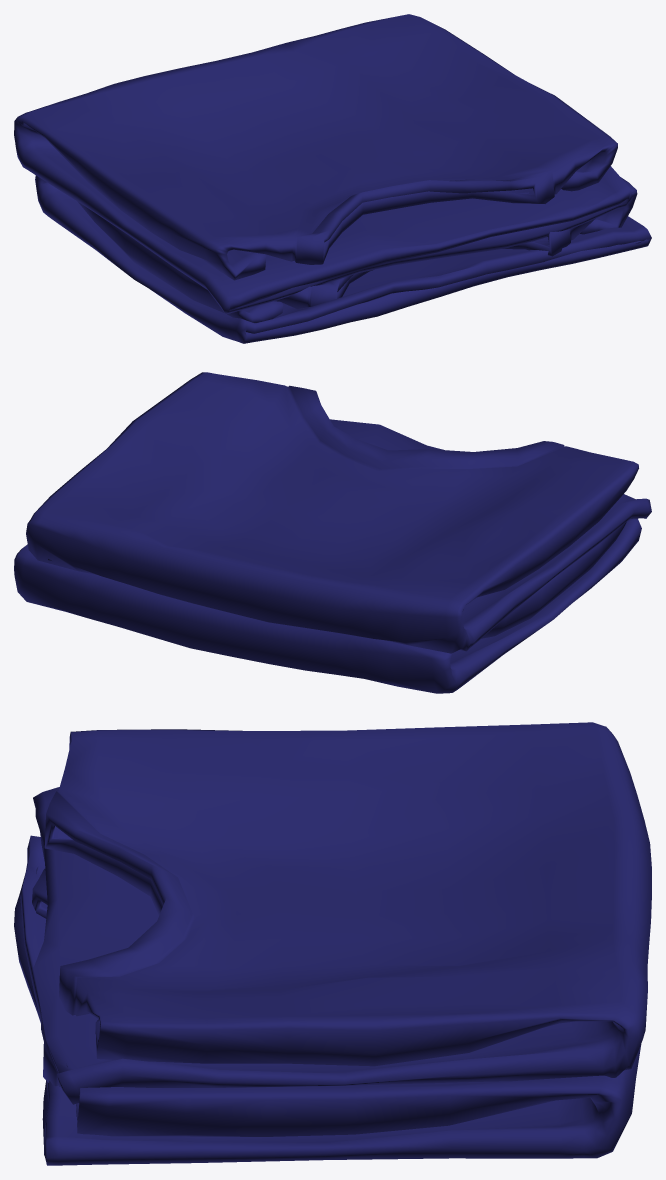
The model's file is Folded_T_Shirt11.fbx.
3 renders of one model, top to bottom at view 1: azimuth 30°, elevation 25°; view 2: azimuth 150°, elevation 25°; view 3: azimuth 270°, elevation 25°, orthographic. The views are drawn at different scales.
Visible parts, largest first — view 1: Folded_T_Shirt11; view 2: Folded_T_Shirt11; view 3: Folded_T_Shirt11.
Boxes of the visible parts, bbox=[...] form: Folded_T_Shirt11: bbox=[14, 14, 651, 343]; Folded_T_Shirt11: bbox=[14, 372, 651, 693]; Folded_T_Shirt11: bbox=[14, 722, 651, 1165].
Bounding box in the file's own units: 38.43 × 8.12 × 33.24.
